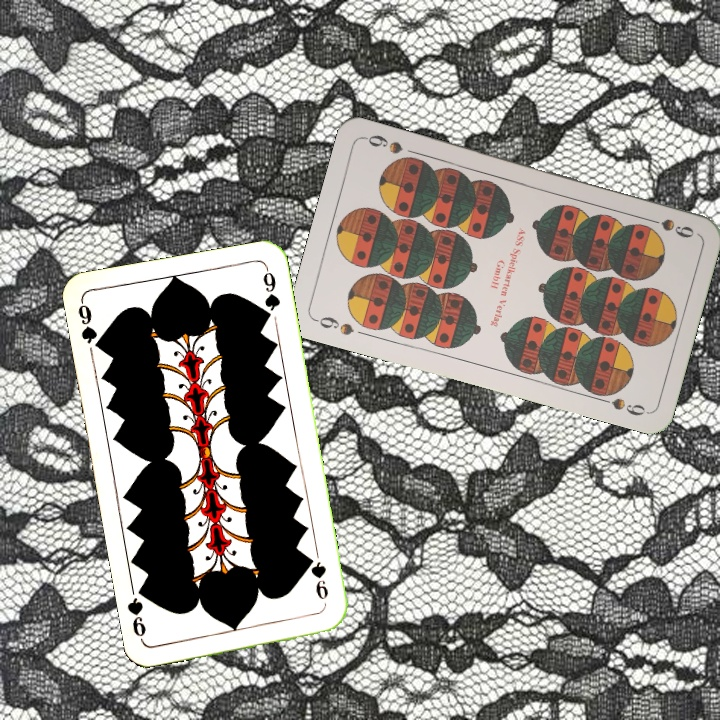G9: (74, 297, 106, 354), (304, 552, 331, 603)
S9: (639, 213, 697, 241), (310, 312, 357, 338)
